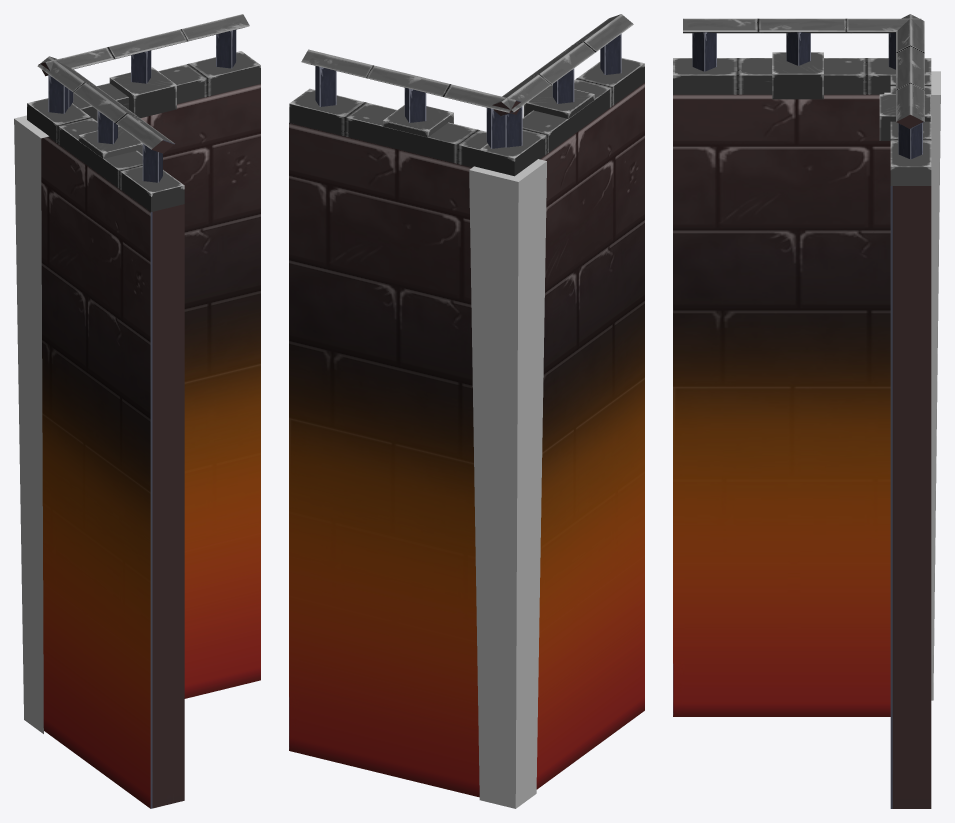
The model's file is Lava Edge Outer.FBX.
The picture shows the model from 3 angles, left to right: view 1: azimuth 30°, elevation 25°; view 2: azimuth 150°, elevation 25°; view 3: azimuth 270°, elevation 25°; orthographic projection. The views are drawn at different scales.
Parts seen in each view (by area): view 1: outer_corner009, outer_corner007, outer_corner_rand008, outer_corner_rand007; view 2: outer_corner007, outer_corner009, outer_corner_rand007, outer_corner_rand008; view 3: outer_corner009, outer_corner007, outer_corner_rand008, outer_corner_rand007.
Part boxes in pixels (x1,y1,x2,y2): outer_corner009: (14, 56, 184, 808); outer_corner007: (38, 14, 260, 698); outer_corner_rand008: (27, 98, 184, 211); outer_corner_rand007: (72, 51, 260, 121); outer_corner007: (289, 49, 521, 797); outer_corner009: (469, 14, 644, 808); outer_corner_rand007: (289, 88, 514, 176); outer_corner_rand008: (479, 58, 644, 175); outer_corner009: (673, 18, 940, 716); outer_corner007: (890, 14, 931, 808); outer_corner_rand008: (673, 52, 931, 99); outer_corner_rand007: (879, 75, 931, 185).
Bounding box in the file's own units: 52.05 × 148 × 51.96.
